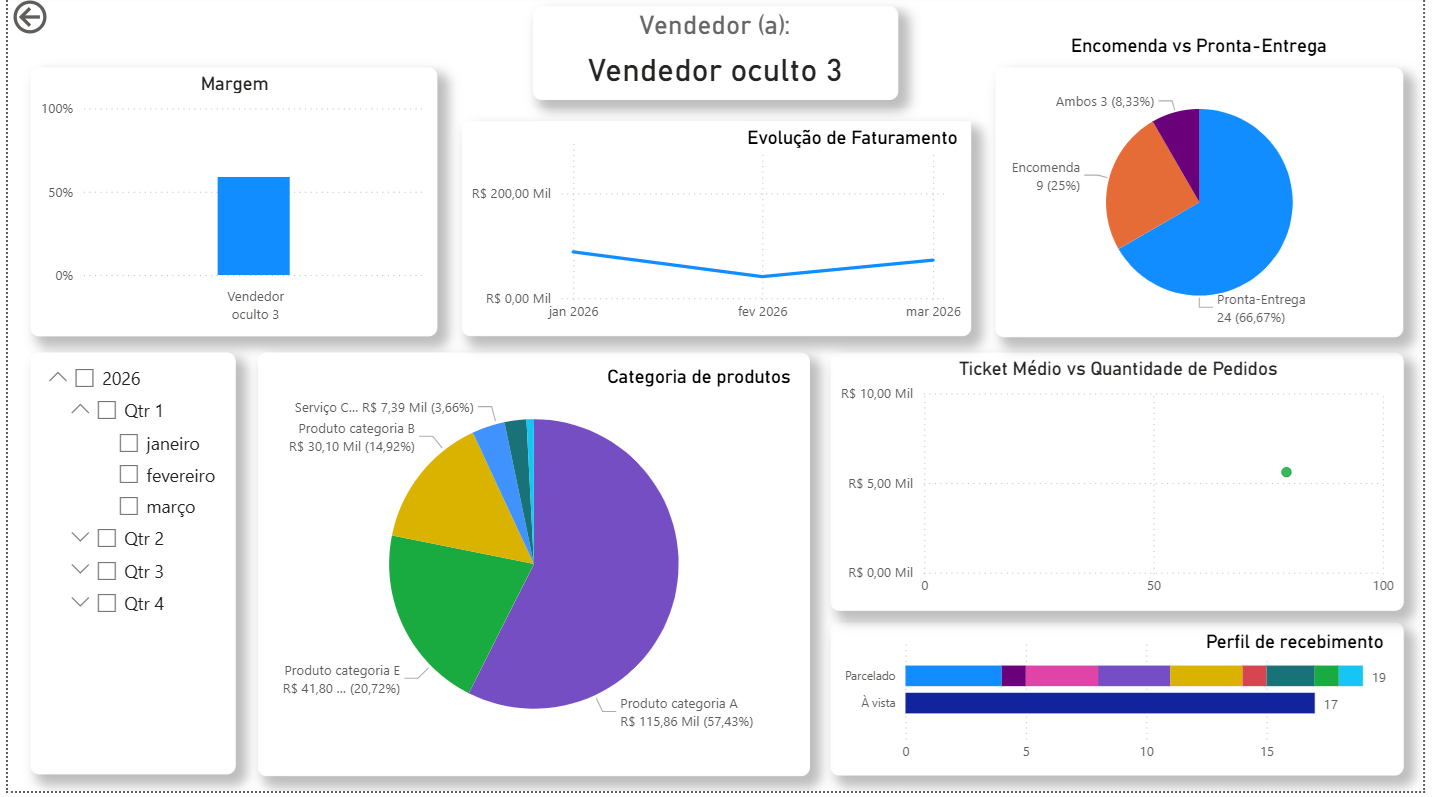

What the dashboard file says about the page in this screenshot:
{"tool":"powerbi","page":{"name":"Detalhes - Vendedor","canvas":[1280,720],"ordinal":5},"visuals":[{"type":"actionButton","box":[0,0,41.2,39.8],"z":0},{"type":"textbox","box":[474.8,10.4,330.3,84.9],"z":0,"group":"g6"},{"type":"textbox","box":[893,30,367.8,54.9],"z":0,"group":"g3"},{"type":"lineChart","fields":{"Y":["Produto, comercial e rent.Fat total"],"Category":["Calendario.Date.Variation.Hierarquia de datas.Ano","Calendario.Date.Variation.Hierarquia de datas.Trimestre","Calendario.Date.Variation.Hierarquia de datas.Mês"]},"box":[410.5,114,460.5,194.2],"z":0,"group":"g5"},{"type":"pieChart","title":"Faturamento por categoria","fields":{"Category":["Produto, comercial e rent.Categoria"],"Y":["Produto, comercial e rent.Fat total"]},"box":[226.4,323.8,499.5,382.8],"z":0,"group":"g4"},{"type":"barChart","fields":{"Category":["Produto, comercial e rent.Parcelado?"],"Y":["Count(Produto, comercial e rent.N° do Pedido)"],"Series":["Produto, comercial e rent.Parcelado em quantas vezes"]},"box":[743.7,568.1,518.7,138.6],"z":0,"group":"g1"},{"type":"textbox","box":[452.5,8.1,373.5,66.3],"z":1000,"group":"g6"},{"type":"pieChart","fields":{"Category":["Produto, comercial e rent.Pronto entrega ou encomenda?"],"Y":["Count(Produto, comercial e rent.N° do Pedido)"]},"box":[893.3,64.5,369.1,244.3],"z":1000,"group":"g3"},{"type":"columnChart","title":"Margem","fields":{"Category":["Produto, comercial e rent.Vendedor"],"Y":["Produto, comercial e rent.Margem %"]},"box":[20.6,65.9,367.8,242.9],"z":1000},{"type":"textbox","box":[1078.9,570.7,181.1,28.8],"z":1000,"group":"g1"},{"type":"textbox","box":[664.2,113.9,207.2,28.8],"z":2000,"group":"g5"},{"type":"textbox","box":[537.9,330.7,178.4,28.8],"z":2000,"group":"g4"},{"type":"group","id":"g1","title":"Grupo 1","box":[743.7,568.1,518.7,138.6],"z":2000},{"type":"scatterChart","title":"Ticket Médio vs Quantidade de Pedidos","fields":{"X":["Produto, comercial e rent.N° do Pedido"],"Y":["Produto, comercial e rent.Ticket Médio"],"Category":["Produto, comercial e rent.Vendedor"],"Series":["Produto, comercial e rent.Vendedor"]},"box":[743.7,323.8,518.7,233.3],"z":3000},{"type":"group","id":"g2","title":"Grupo 3","box":[376.6,8.1,526.7,90.7],"z":4000},{"type":"slicer","fields":{"Values":["Calendario.Date.Variation.Hierarquia de datas.Ano","Calendario.Date.Variation.Hierarquia de datas.Trimestre","Calendario.Date.Variation.Hierarquia de datas.Mês"]},"box":[20.6,323.8,185.2,381.5],"z":5000},{"type":"group","id":"g3","title":"Grupo 4","box":[893,30,369.4,278.8],"z":6000},{"type":"group","id":"g4","title":"Grupo 5","box":[226.4,323.8,499.5,382.8],"z":7000},{"type":"group","id":"g5","title":"Grupo 6","box":[410.5,113.9,460.9,194.2],"z":8000},{"type":"group","id":"g6","title":"Grupo 2","box":[452.5,8.1,373.5,87.2],"z":9001,"group":"g2"},{"type":"card","fields":{"Values":["Min(Produto, comercial e rent.Vendedor)"]},"box":[376.6,32.5,526.7,66.3],"z":9501,"group":"g2"}]}

Visuals, with their boxes in screenshot pixels (x1, y1, x2, y2), scaled from the page's 1280x720 canvas onto the 1433x797 screenshot:
actionButton: BBox(0, 0, 46, 44)
textbox: BBox(532, 12, 901, 105)
textbox: BBox(1000, 33, 1412, 94)
lineChart - Produto, comercial e rent.Fat total x Calendario.Date.Variation.Hierarquia de datas.Ano: BBox(460, 126, 975, 341)
"Faturamento por categoria" pieChart: BBox(253, 358, 813, 782)
barChart - Produto, comercial e rent.Parcelado? x Count(Produto, comercial e rent.N° do Pedido): BBox(833, 629, 1413, 782)
textbox: BBox(507, 9, 925, 82)
pieChart - Produto, comercial e rent.Pronto entrega ou encomenda? x Count(Produto, comercial e rent.N° do Pedido): BBox(1000, 71, 1413, 342)
"Margem" columnChart: BBox(23, 73, 435, 342)
textbox: BBox(1208, 632, 1411, 664)
textbox: BBox(744, 126, 976, 158)
textbox: BBox(602, 366, 802, 398)
"Grupo 1" group: BBox(833, 629, 1413, 782)
"Ticket Médio vs Quantidade de Pedidos" scatterChart: BBox(833, 358, 1413, 617)
"Grupo 3" group: BBox(422, 9, 1011, 109)
slicer - Calendario.Date.Variation.Hierarquia de datas.Ano x Calendario.Date.Variation.Hierarquia de datas.Trimestre: BBox(23, 358, 230, 781)
"Grupo 4" group: BBox(1000, 33, 1413, 342)
"Grupo 5" group: BBox(253, 358, 813, 782)
"Grupo 6" group: BBox(460, 126, 976, 341)
"Grupo 2" group: BBox(507, 9, 925, 105)
card - Min(Produto, comercial e rent.Vendedor): BBox(422, 36, 1011, 109)
